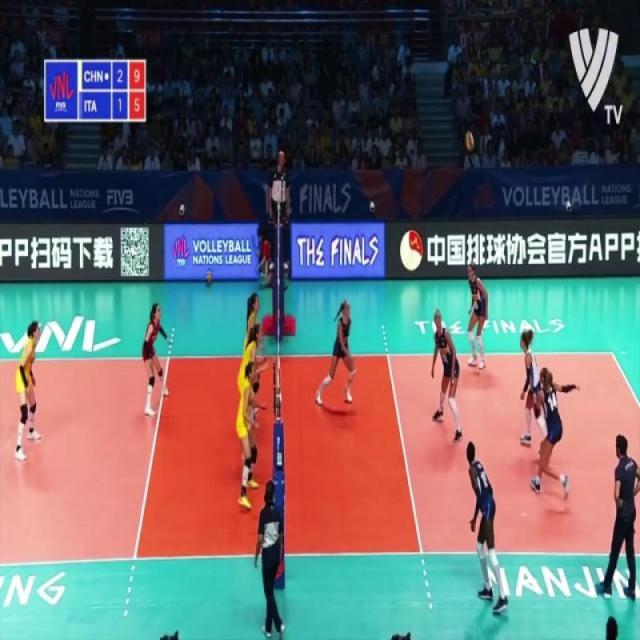volleyball: (464, 131, 475, 152), (204, 269, 213, 284)
